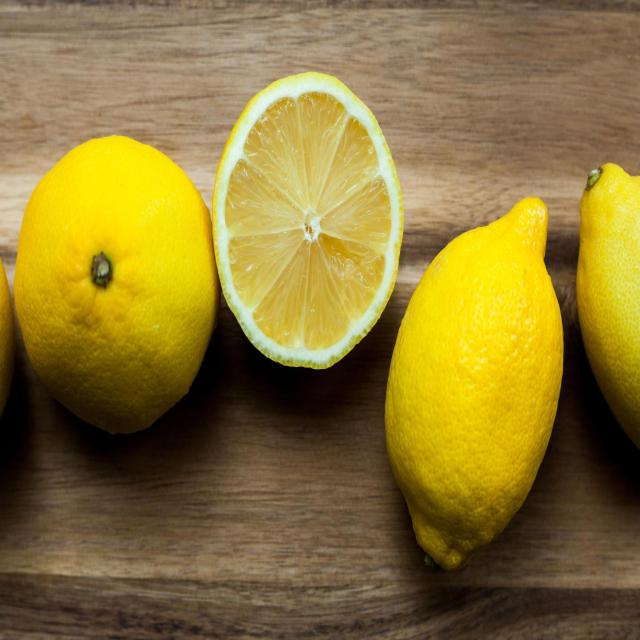lemon: (378, 186, 568, 574), (7, 118, 222, 438), (199, 65, 411, 376)
